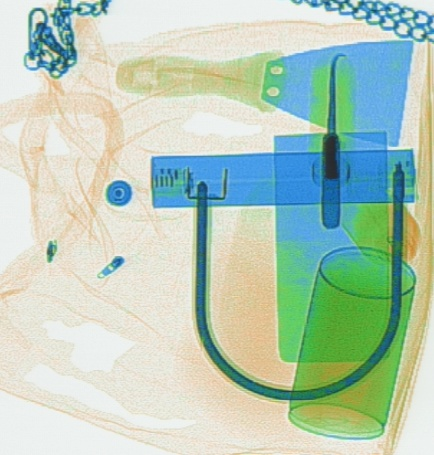knife: (272, 44, 409, 369)
